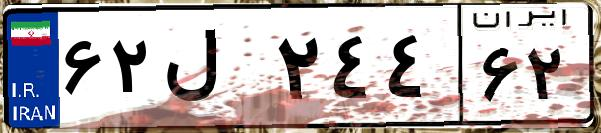2: (270, 28, 330, 110), (525, 38, 570, 115), (110, 28, 158, 98)
4: (385, 28, 445, 110), (330, 28, 385, 110)
6: (57, 26, 110, 100), (475, 38, 525, 113)
ل: (158, 20, 270, 120)
